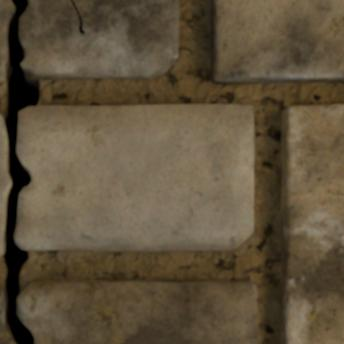brick: (281, 105, 343, 343), (211, 0, 343, 82)
broken_brick: (16, 103, 254, 251), (18, 279, 258, 343), (20, 0, 179, 80), (0, 113, 9, 258), (0, 0, 13, 85), (0, 289, 10, 343)
crack: (0, 0, 40, 343)
